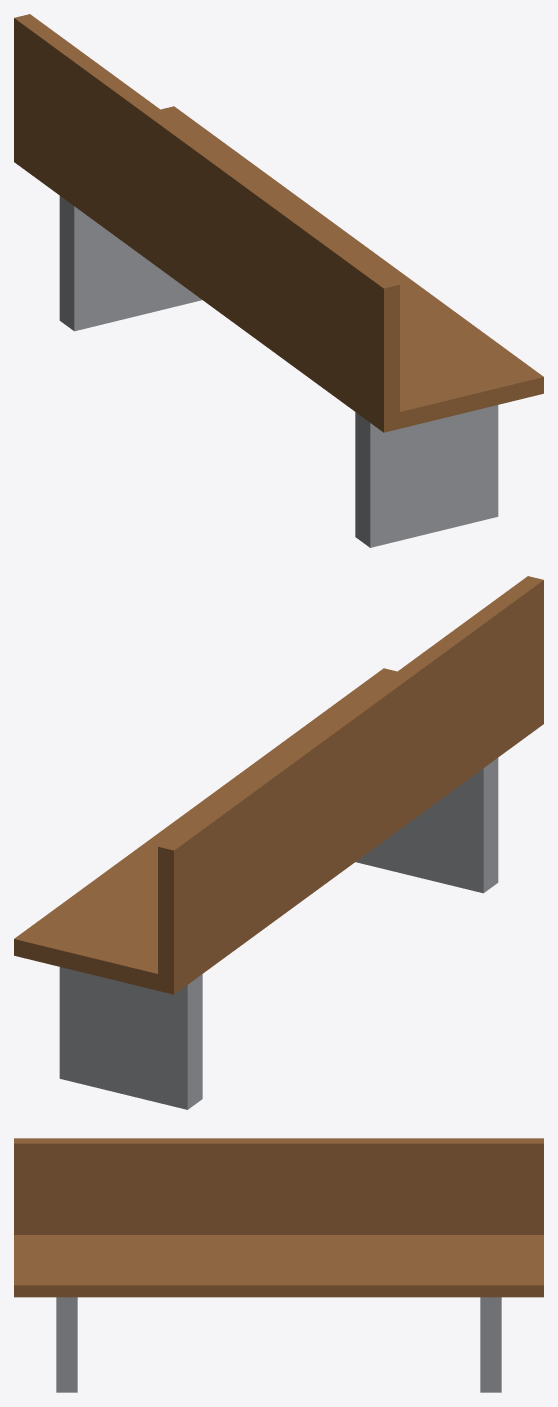
File: Bench.glb
3 renders of one model, top to bottom at view 1: azimuth 30°, elevation 25°; view 2: azimuth 150°, elevation 25°; view 3: azimuth 270°, elevation 25°, orthographic. The views are drawn at different scales.
Visible parts, largest first — view 1: Bench; view 2: Bench; view 3: Bench.
Part boxes in pixels (x1,y1,x2,y2): Bench: (14, 14, 543, 547); Bench: (14, 576, 543, 1109); Bench: (14, 1138, 543, 1392).
Bounding box in the file's own units: 0.5 × 0.85 × 2.
